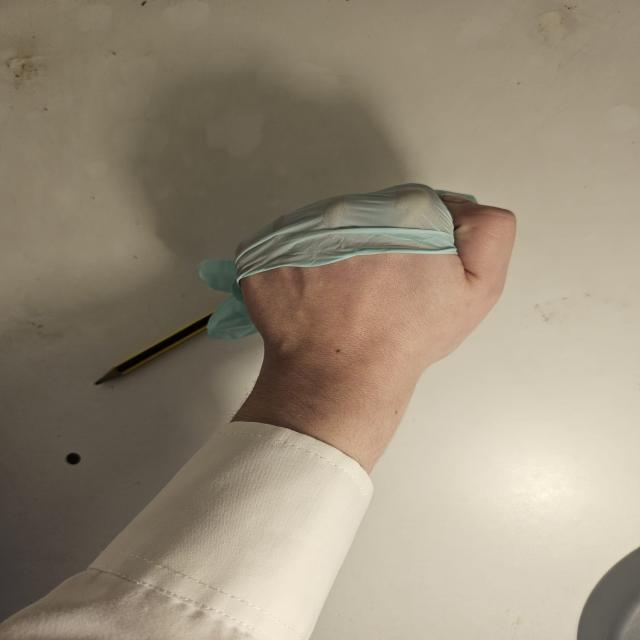glove_partial: (194, 181, 518, 357)
